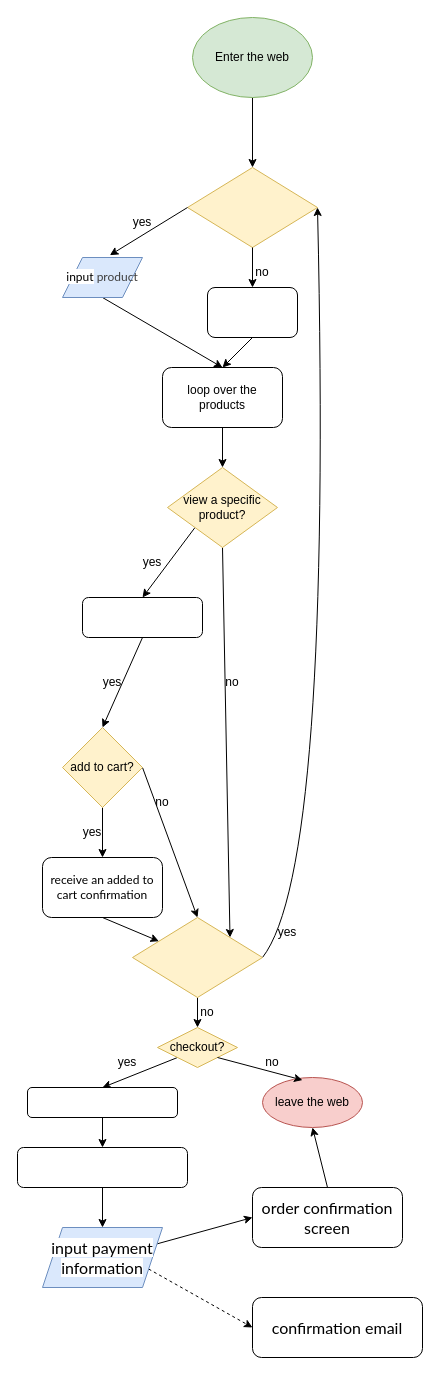
Image size: 440x1375. Some labels were removed from this diagram. The shapes that lost their labels are listed below. From the top down, each one's centre as x and y in pixels, then its label:
At (252,207): "search for a product?".
At (252,312): "explore the product on home page".
At (142,617): "view a specific product".
At (197,957): "continue shopping?".
At (102,1102): "View Cart screen".
At (102,1167): "View Payment screen".
